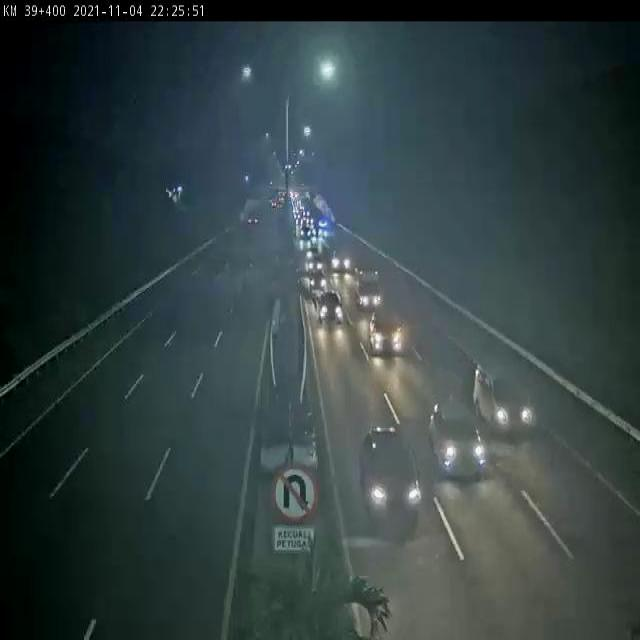Car: (361, 424, 421, 537), (428, 392, 488, 475), (472, 363, 537, 437), (367, 309, 407, 356), (353, 272, 383, 312), (316, 290, 344, 327), (307, 267, 331, 295), (305, 254, 325, 279), (332, 256, 354, 274), (247, 216, 259, 225)
